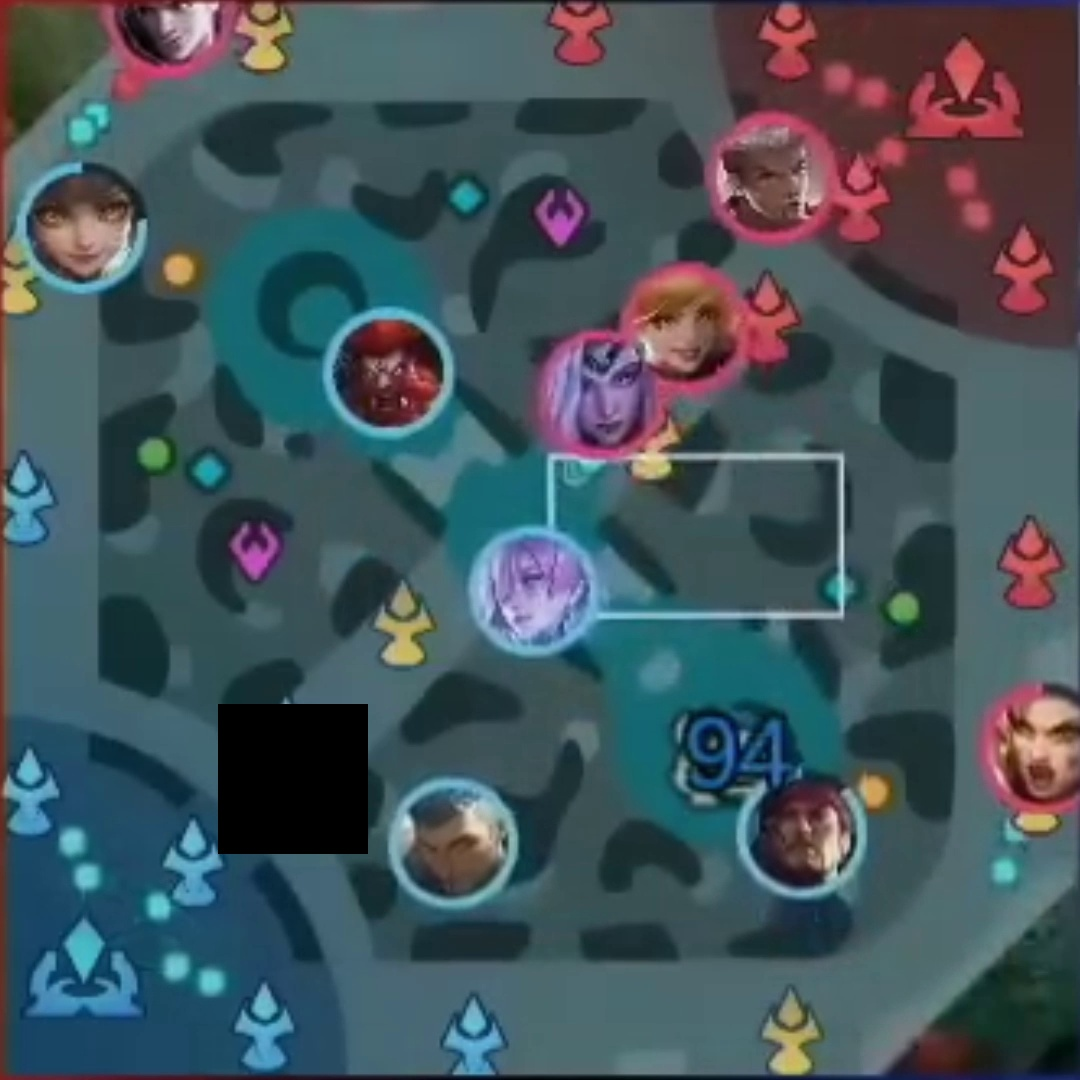Chou: (727, 132, 816, 223)
Claude: (135, 3, 221, 61)
Fanny: (640, 279, 725, 378)
Fredrinn: (408, 799, 500, 885)
Lapu-Lapu: (768, 789, 842, 881)
Masha: (1006, 703, 1076, 797)
Minotaur: (349, 330, 432, 418)
Novaria: (487, 546, 575, 638)
Valentina: (556, 347, 646, 446)
Wanwan: (39, 179, 127, 272)
